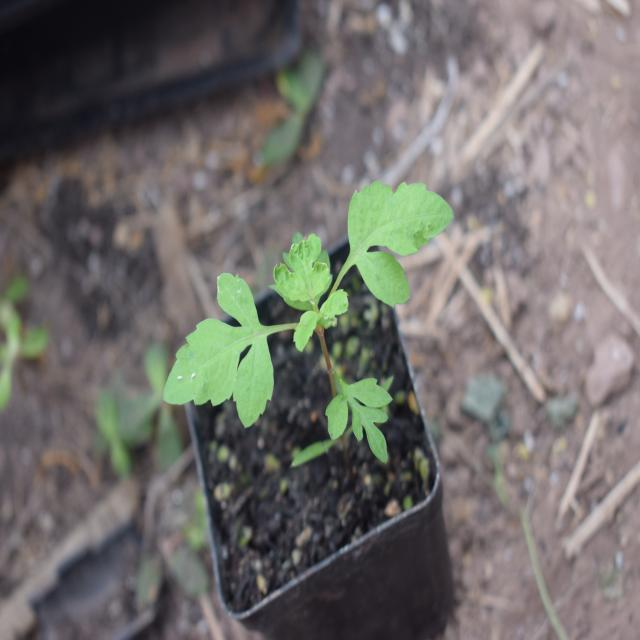Bidens pilosa: (157, 166, 466, 484)
